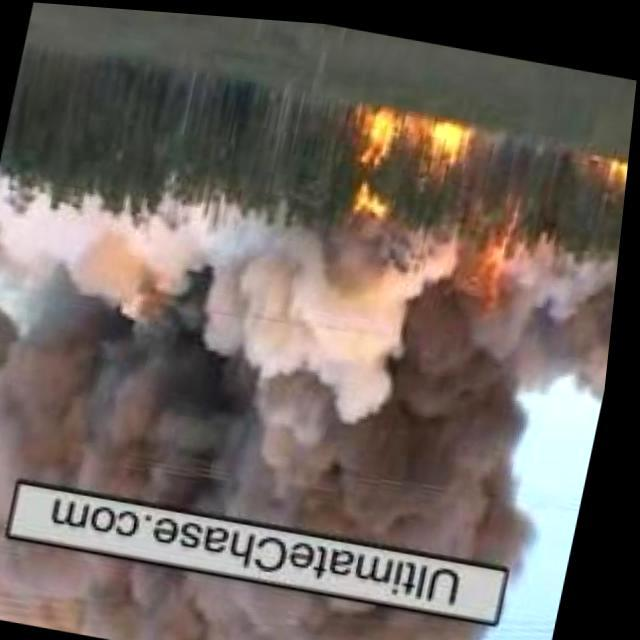fire: (335, 99, 477, 221), (448, 200, 524, 324), (592, 146, 632, 178)
